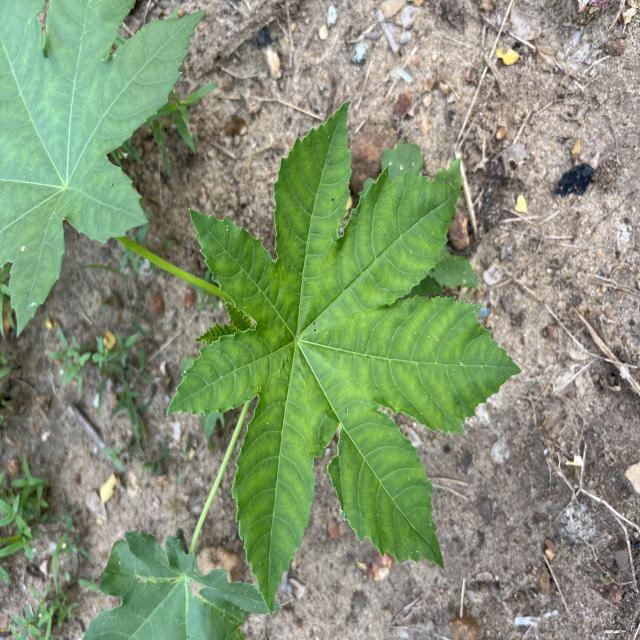Ricinus communis linn: (163, 94, 524, 621)
